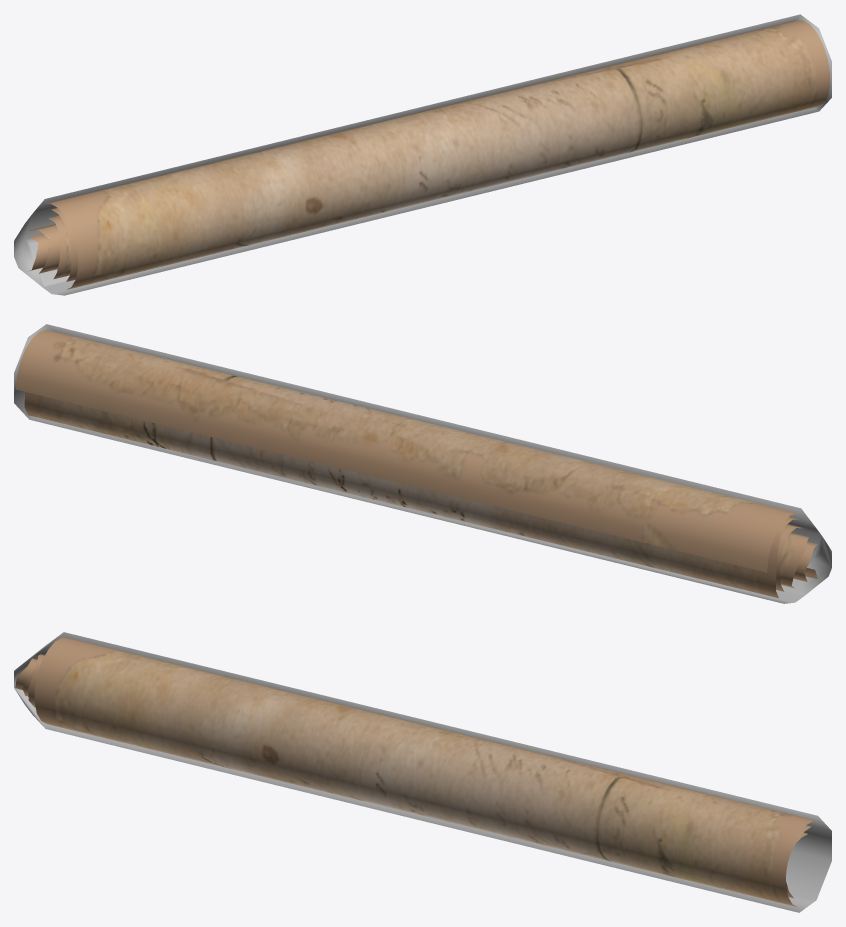
The model's file is SM_Scroll_01.gltf.
3 renders of one model, top to bottom at view 1: azimuth 30°, elevation 25°; view 2: azimuth 150°, elevation 25°; view 3: azimuth 330°, elevation 25°, orthographic.
Parts seen in each view (by area): view 1: SM_Scroll_01_LOD0, SM_Scroll_01_ConvexHulls; view 2: SM_Scroll_01_LOD0, SM_Scroll_01_ConvexHulls; view 3: SM_Scroll_01_LOD0, SM_Scroll_01_ConvexHulls.
Part boxes in pixels (<box>): SM_Scroll_01_LOD0: <box>27,20,830,289</box>; SM_Scroll_01_ConvexHulls: <box>14,14,831,295</box>; SM_Scroll_01_LOD0: <box>16,330,817,598</box>; SM_Scroll_01_ConvexHulls: <box>14,324,831,603</box>; SM_Scroll_01_LOD0: <box>15,637,818,907</box>; SM_Scroll_01_ConvexHulls: <box>14,632,831,912</box>.
Size of what is drawn, in the model's own units: 0.6577 by 0.0667 by 0.066.
